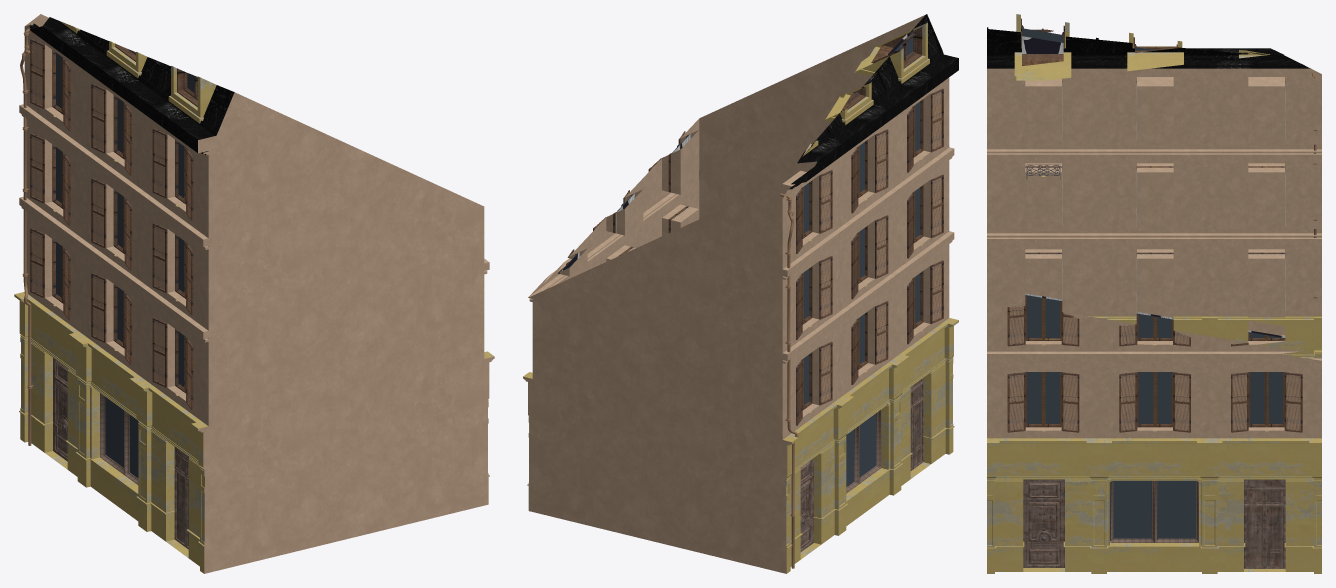
Rendered from ruin_center.fbx.
The picture shows the model from 3 angles, left to right: view 1: azimuth 30°, elevation 25°; view 2: azimuth 150°, elevation 25°; view 3: azimuth 270°, elevation 25°; orthographic projection. The views are drawn at different scales.
Parts seen in each view (by area): view 1: ruin_center; view 2: ruin_center; view 3: ruin_center.
Boxes of the visible parts, x1,y1,x2,y2 form: ruin_center: [14, 14, 494, 573]; ruin_center: [523, 14, 958, 573]; ruin_center: [987, 14, 1321, 573].
Bounding box in the file's own units: 1024 × 1099 × 1590.
13 materials, 9 textured.
